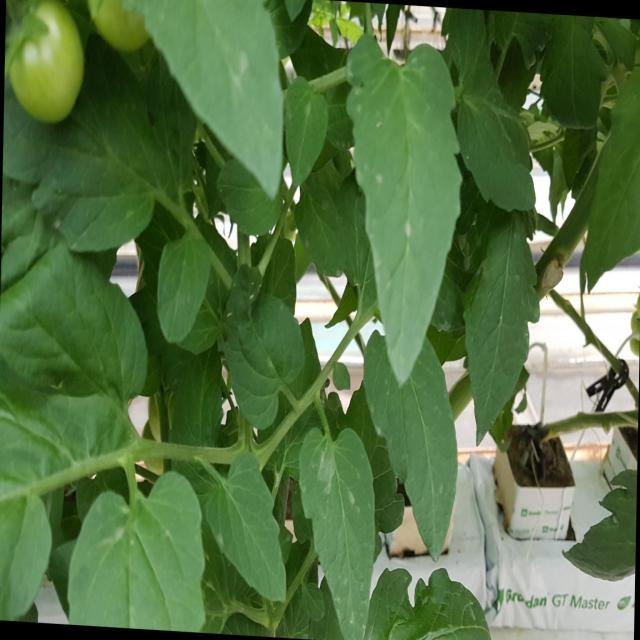Healthy Leaf: (336, 23, 470, 373), (443, 169, 554, 470), (65, 446, 208, 640), (285, 403, 392, 640), (141, 216, 225, 368)
